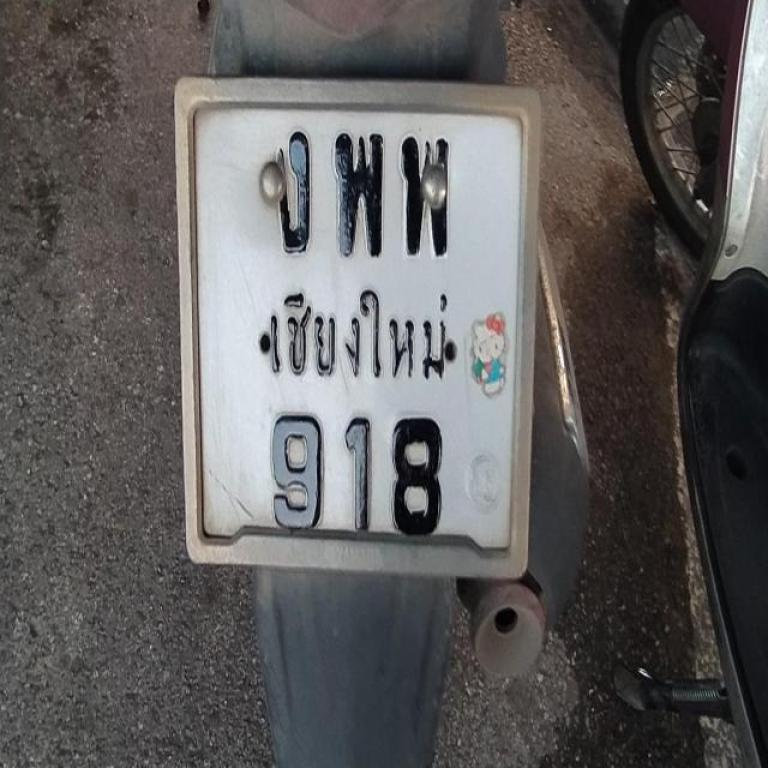license plate: (164, 65, 536, 585)
